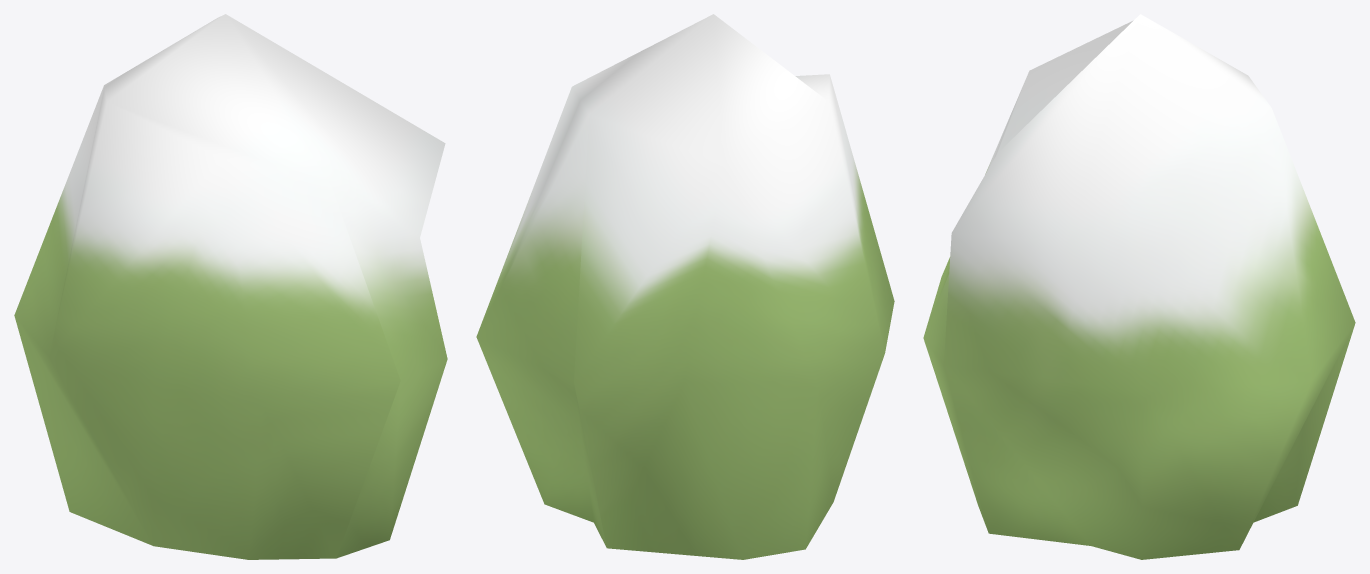
3 views of the same model, side by side, from view 1: azimuth 30°, elevation 25°; view 2: azimuth 150°, elevation 25°; view 3: azimuth 270°, elevation 25° (orthographic). The views are drawn at different scales.
Visible parts, largest first — view 1: wLODBush; view 2: wLODBush; view 3: wLODBush.
Boxes of the visible parts, bbox=[...] form: wLODBush: bbox=[14, 14, 447, 559]; wLODBush: bbox=[476, 14, 894, 559]; wLODBush: bbox=[923, 14, 1355, 559].
Size of the model in its own units: 4.29 by 5.59 by 4.57.
Materials: 1 (1 with a texture image).
